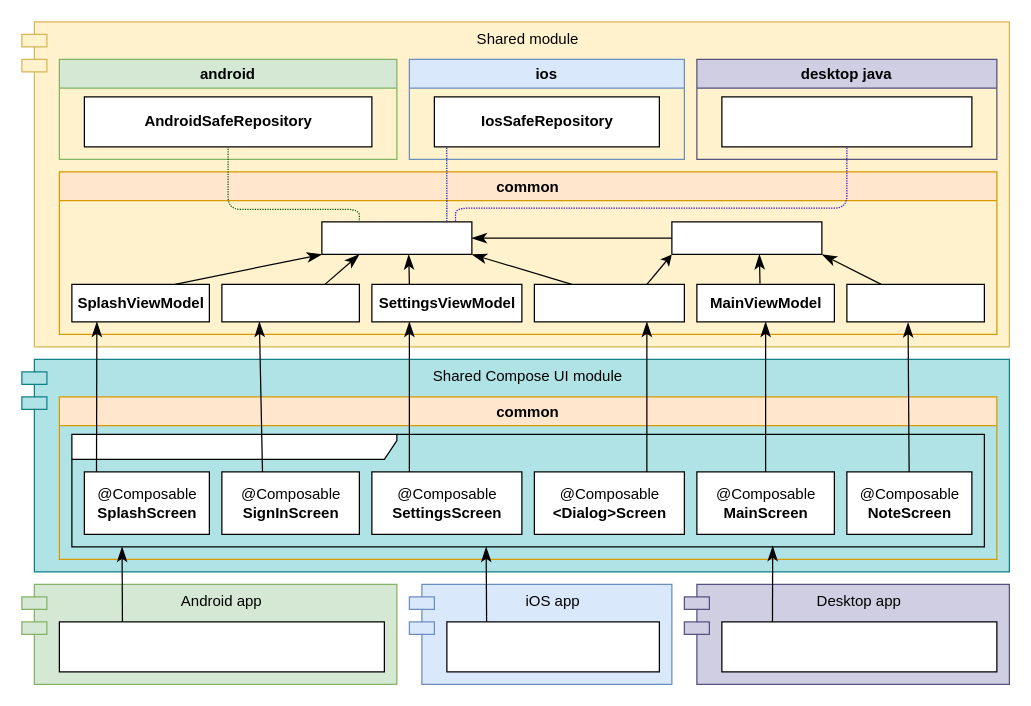
The diagram is 1031 pixels wide and 706 high, and some of its shapes have lost their labels. Each missing label, with the centre of its shape:
"<Dialog>ViewModel" goes at point 608,302.
"fun main()" goes at point 859,646.
"Jvm SafeRepository" goes at point 846,121.
"MainActivity" goes at point 221,646.
"MainUIViewController" goes at point 552,646.
"Navigation framework (Decompose)" goes at point 527,490.
"NoteDAO" goes at point 746,237.
"NoteViewModel" goes at point 915,302.
"SafeRepo" goes at point 396,237.
"SignIn ViewModel" goes at point 290,302.
